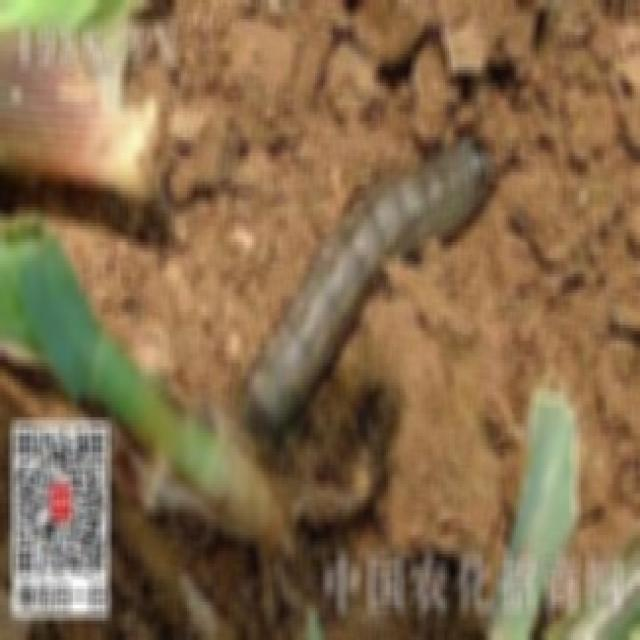black cutworm: (243, 124, 499, 439)
